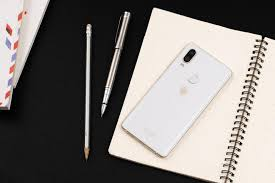vsmart: (112, 37, 235, 159)
